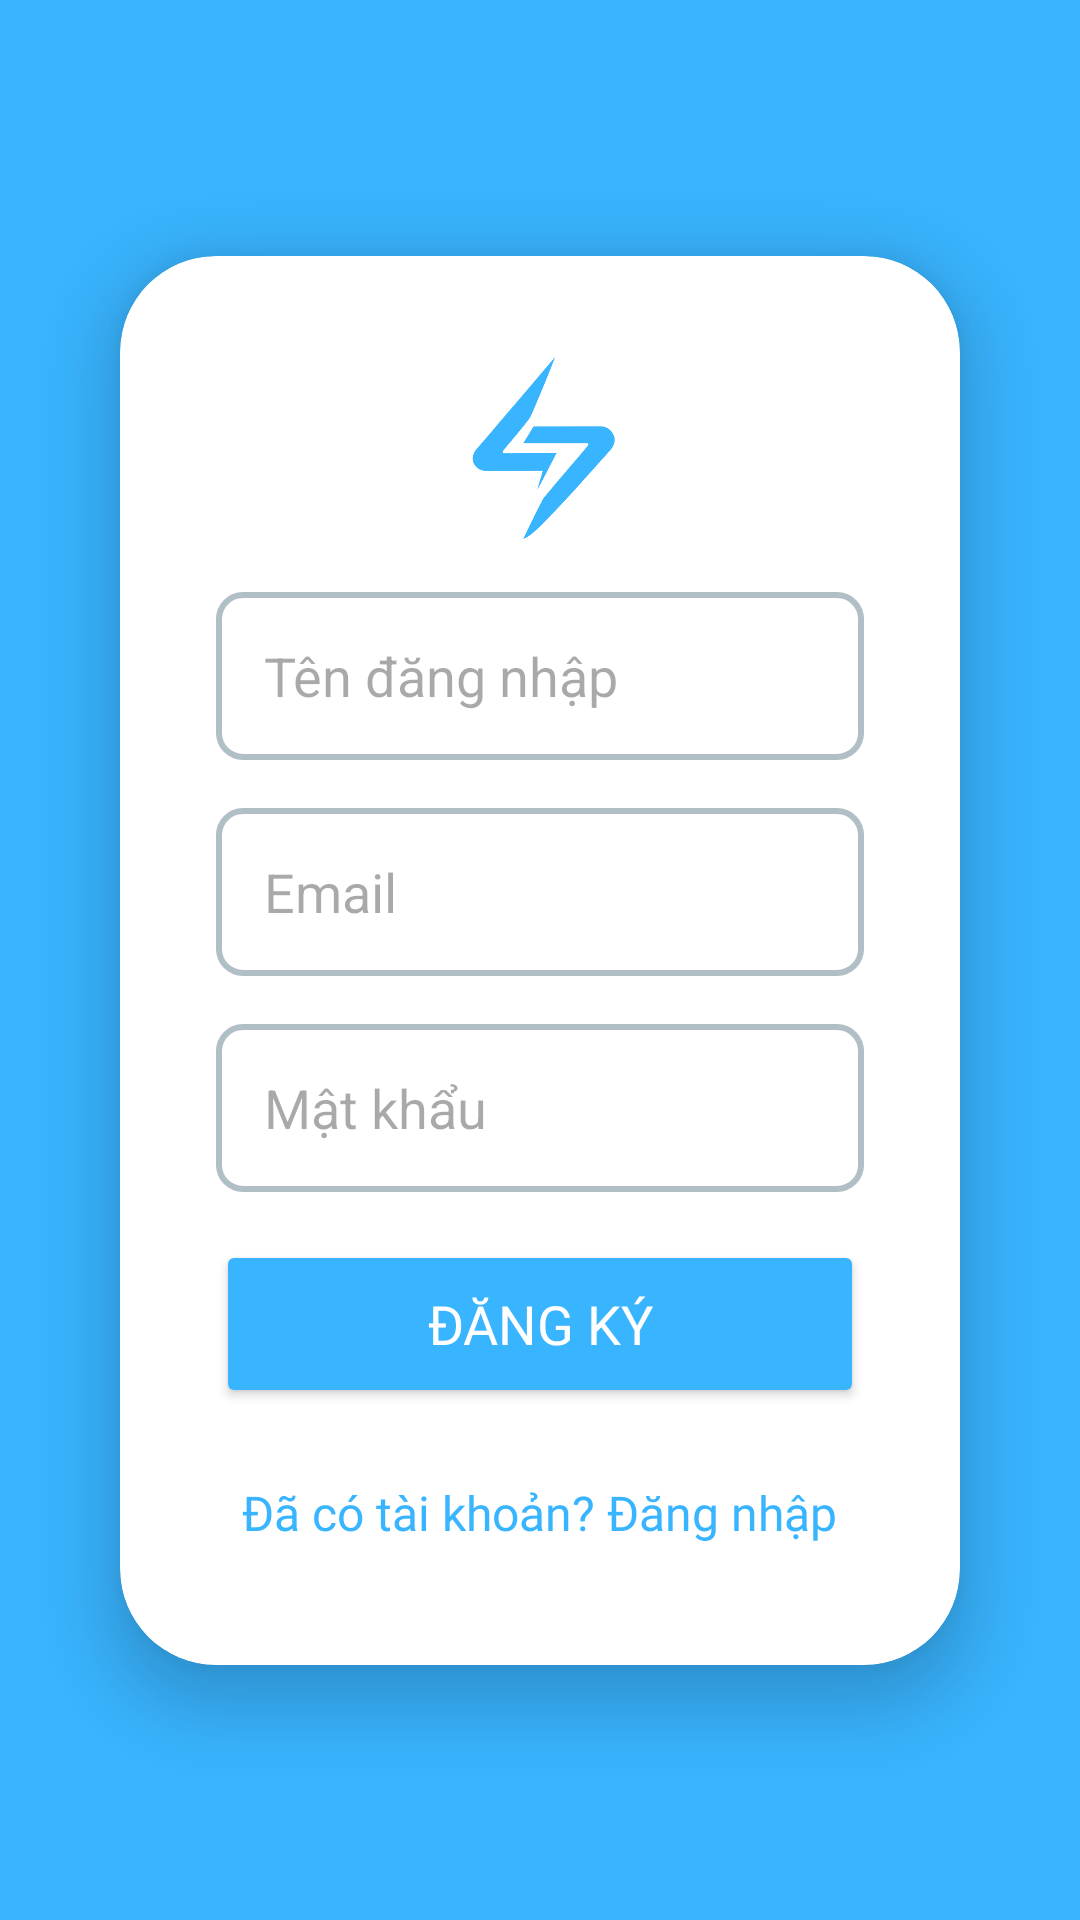

Named icons in this screenshot (1080px×1920px) and their centers, (x=x, y=y):
thunder: (x=543, y=448)
